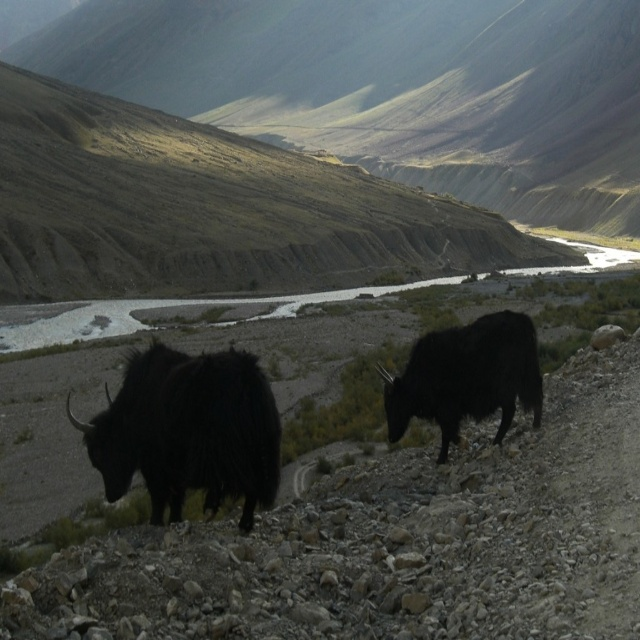Cattle: (67, 331, 281, 535), (374, 309, 544, 465)
